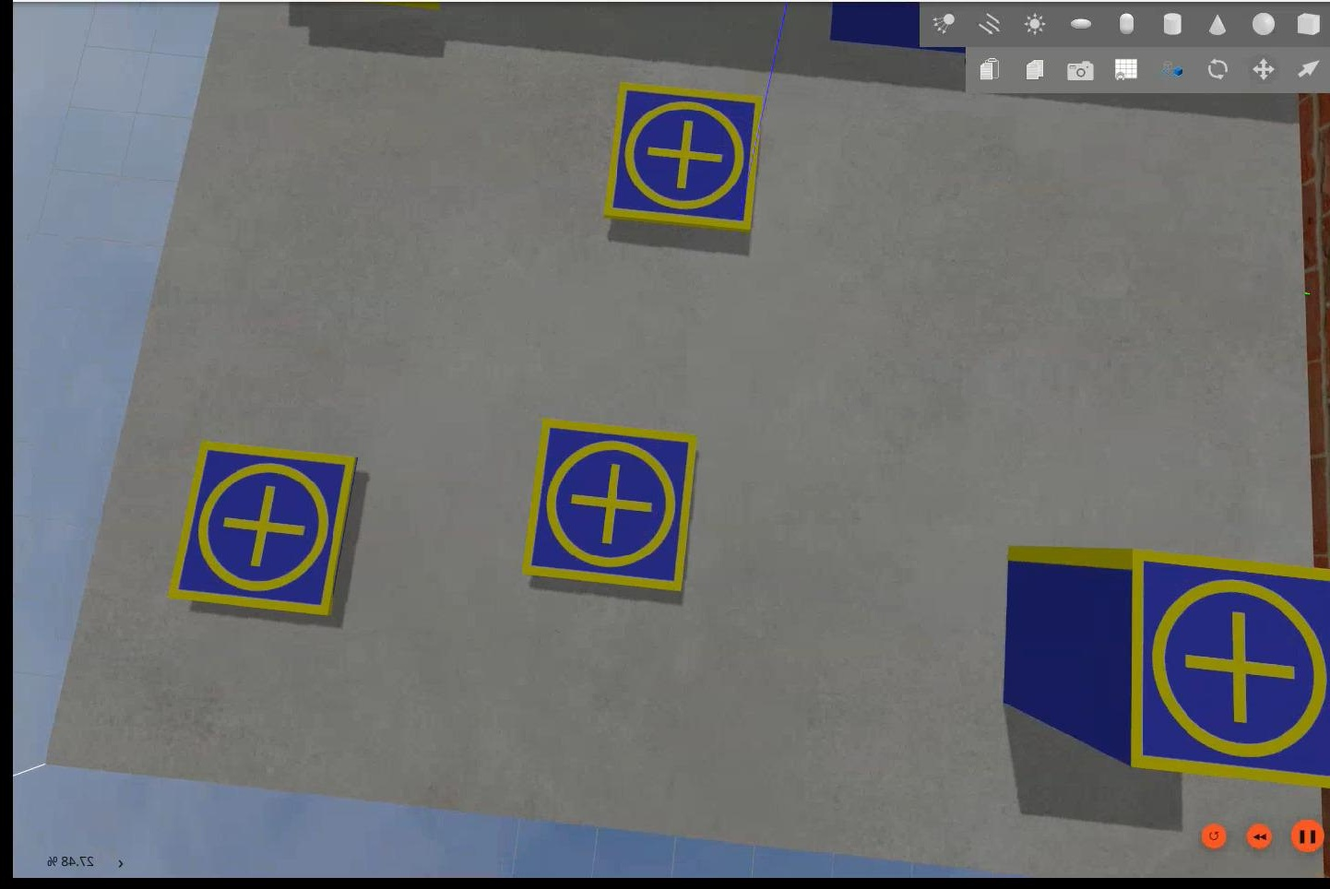small_base: (1125, 547, 1328, 788), (165, 441, 355, 617), (517, 419, 697, 595), (600, 85, 762, 232)
